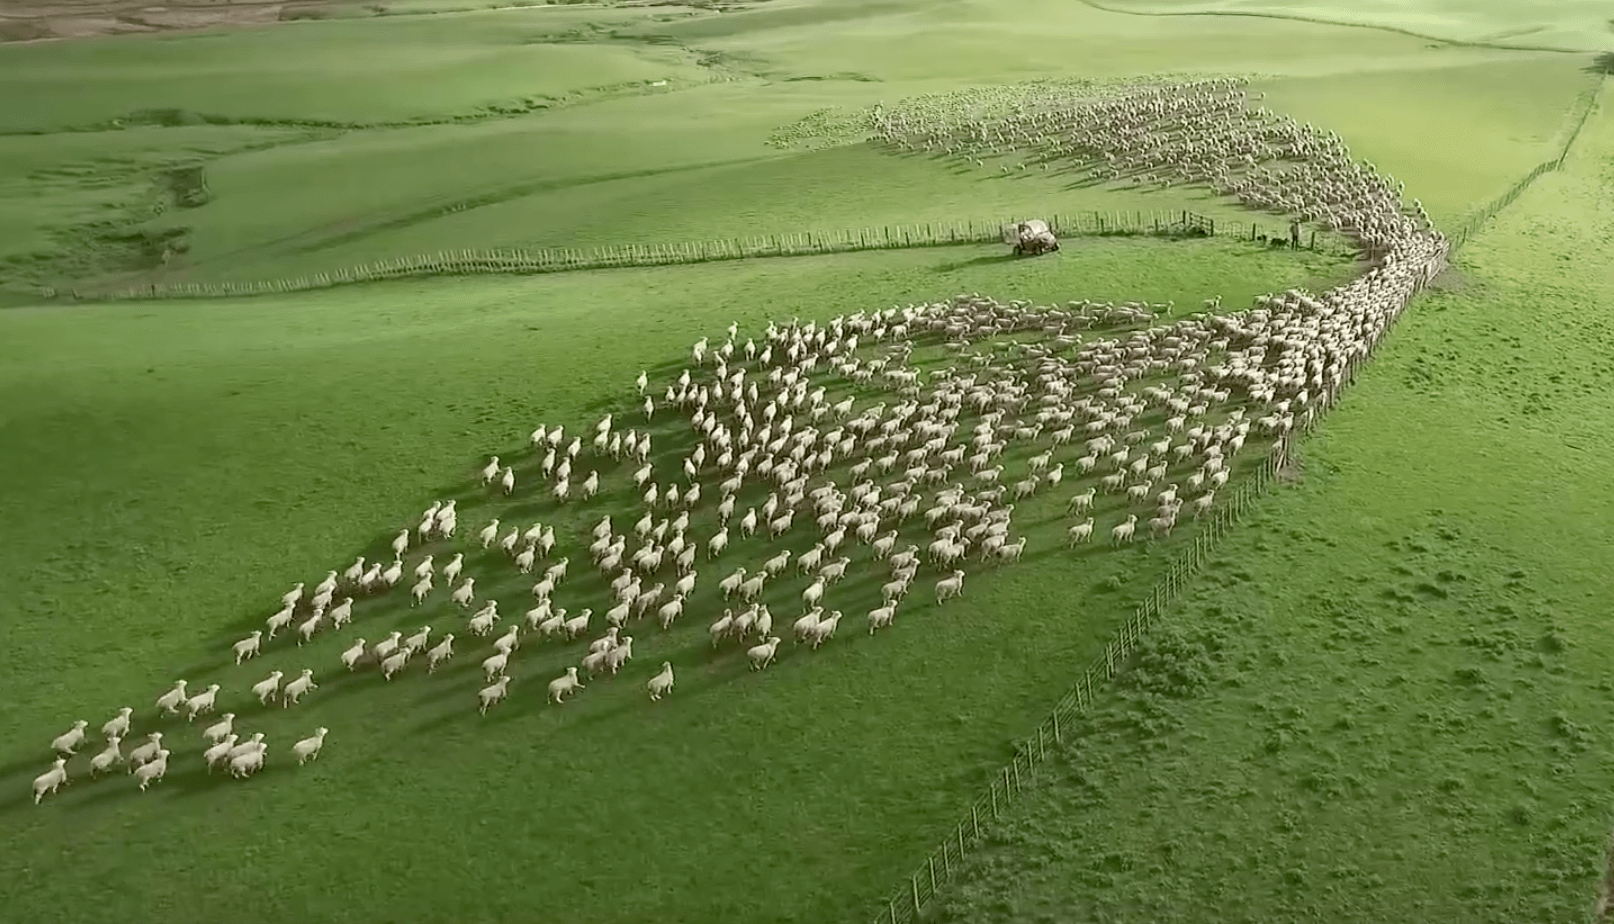sheep: (32, 756, 68, 804), (134, 749, 172, 794), (86, 736, 123, 782), (477, 673, 512, 718), (52, 718, 90, 760), (127, 730, 164, 772), (745, 635, 784, 674), (293, 725, 330, 764), (203, 733, 239, 774), (544, 666, 580, 708), (791, 603, 826, 646), (283, 668, 316, 712), (101, 706, 135, 745), (809, 610, 844, 649), (633, 582, 666, 622), (157, 679, 188, 721), (267, 600, 297, 644), (251, 669, 284, 708), (188, 682, 221, 722), (482, 643, 512, 684), (795, 538, 824, 581), (880, 572, 912, 609), (604, 635, 634, 675), (205, 711, 239, 746), (937, 535, 969, 571), (708, 607, 734, 651), (734, 602, 759, 645), (1068, 514, 1099, 550), (657, 594, 686, 632), (563, 608, 595, 641), (1109, 516, 1141, 550), (233, 630, 264, 665), (381, 646, 412, 680), (231, 735, 266, 764), (934, 569, 964, 605), (648, 661, 674, 702), (523, 596, 551, 634), (994, 536, 1028, 567), (589, 625, 619, 659), (403, 624, 432, 659), (739, 569, 768, 605), (800, 576, 828, 612), (341, 636, 368, 673), (374, 632, 402, 665), (754, 604, 776, 647), (427, 632, 454, 666), (823, 524, 850, 558), (764, 546, 793, 578), (1069, 485, 1096, 519), (605, 596, 631, 632), (868, 598, 896, 630), (616, 576, 643, 609), (769, 507, 797, 538), (889, 545, 920, 573), (852, 516, 880, 547), (470, 606, 497, 638), (330, 595, 356, 628), (983, 503, 1017, 528), (1191, 489, 1215, 523), (890, 559, 920, 587), (1100, 466, 1126, 497), (718, 469, 744, 501), (847, 456, 872, 489), (411, 569, 432, 608), (543, 607, 566, 641), (533, 571, 556, 605), (1010, 474, 1039, 502), (1073, 449, 1100, 479), (280, 582, 306, 613), (673, 569, 698, 600), (819, 557, 850, 583), (871, 530, 897, 561), (721, 568, 743, 604), (972, 465, 1004, 490), (494, 623, 518, 656), (545, 554, 569, 587), (707, 526, 727, 565), (454, 577, 476, 614), (1049, 422, 1076, 450), (1026, 448, 1053, 476), (1014, 422, 1044, 448), (413, 553, 436, 587), (479, 454, 501, 489), (640, 544, 664, 575), (925, 365, 956, 389), (922, 463, 954, 486), (925, 502, 951, 530), (1173, 438, 1198, 466), (885, 346, 913, 371), (668, 527, 688, 564), (346, 554, 367, 588), (381, 558, 403, 591), (315, 568, 340, 596), (897, 494, 922, 522), (874, 449, 901, 474), (858, 485, 882, 514), (938, 443, 967, 468), (962, 501, 991, 525), (1049, 405, 1077, 430), (580, 469, 601, 502), (360, 561, 384, 591), (445, 553, 463, 589), (678, 540, 697, 576), (604, 533, 626, 564), (834, 396, 856, 427), (783, 472, 808, 499), (865, 355, 891, 380), (611, 567, 632, 599), (756, 451, 777, 483), (1127, 479, 1152, 506), (810, 479, 834, 507), (1184, 464, 1207, 493), (717, 494, 736, 530), (760, 492, 779, 527), (500, 524, 520, 557), (480, 517, 500, 551), (592, 514, 612, 547), (634, 510, 654, 543), (670, 506, 689, 540), (551, 474, 571, 507), (940, 339, 971, 360), (591, 531, 610, 565), (740, 507, 759, 542), (1069, 393, 1096, 417), (775, 460, 797, 489), (439, 510, 458, 543), (817, 506, 842, 531), (896, 366, 921, 390), (864, 431, 888, 456), (975, 485, 1007, 505), (980, 438, 1007, 461), (1005, 392, 1032, 415), (980, 405, 1007, 429), (823, 427, 845, 454), (538, 524, 555, 558), (753, 424, 774, 453), (966, 352, 995, 372), (864, 400, 888, 424), (1125, 427, 1150, 451), (1187, 398, 1210, 423), (1128, 453, 1151, 480), (970, 429, 997, 451), (1087, 437, 1114, 459), (436, 499, 457, 526), (1210, 464, 1232, 492), (1001, 380, 1029, 401), (517, 543, 537, 572), (887, 478, 916, 497), (1048, 381, 1076, 401), (635, 433, 652, 468), (651, 516, 668, 548), (1164, 413, 1187, 438), (1122, 397, 1146, 420), (918, 396, 940, 421), (420, 499, 441, 525), (1228, 430, 1248, 458), (990, 339, 1018, 359), (1097, 384, 1125, 404), (684, 482, 702, 513), (392, 528, 411, 557), (716, 445, 735, 474), (1046, 460, 1065, 489), (891, 427, 913, 451), (840, 356, 862, 380), (879, 413, 905, 434), (942, 324, 972, 341), (1071, 315, 1099, 333), (417, 514, 433, 545), (663, 482, 680, 513), (1201, 438, 1223, 461), (877, 450, 898, 474), (1043, 320, 1068, 341), (1160, 482, 1179, 507), (1151, 435, 1171, 461), (937, 403, 962, 423), (501, 465, 515, 500), (763, 399, 780, 427), (941, 419, 963, 441), (897, 400, 917, 424), (813, 401, 831, 427), (1275, 411, 1294, 437), (1110, 309, 1138, 326), (548, 424, 565, 451), (740, 337, 758, 363), (1054, 337, 1081, 355), (890, 320, 910, 343), (607, 431, 622, 463), (1178, 371, 1206, 388), (1257, 386, 1276, 410), (542, 446, 555, 481), (743, 382, 760, 408), (1148, 357, 1174, 374), (527, 521, 542, 550), (691, 442, 705, 473), (787, 336, 801, 367), (944, 388, 966, 409), (530, 423, 546, 450), (1226, 404, 1246, 427), (1152, 386, 1174, 405), (801, 427, 820, 450), (595, 413, 613, 438), (1133, 311, 1157, 329), (1179, 381, 1204, 399), (1024, 311, 1049, 329), (728, 368, 745, 393), (823, 333, 839, 359), (1201, 296, 1226, 312), (915, 312, 936, 332), (1209, 386, 1230, 405), (644, 481, 656, 515), (979, 324, 1001, 342), (1210, 365, 1233, 383), (566, 435, 582, 462), (817, 446, 832, 473), (801, 451, 819, 474), (623, 429, 637, 456), (1294, 387, 1312, 408), (692, 335, 709, 357), (995, 316, 1018, 333), (1068, 299, 1090, 317), (643, 394, 655, 427), (682, 456, 695, 485), (1131, 345, 1157, 359), (954, 292, 979, 308), (852, 318, 872, 337), (793, 377, 810, 398), (882, 305, 900, 326), (1077, 357, 1099, 374), (779, 412, 795, 435), (872, 322, 888, 346), (1152, 301, 1175, 317), (634, 369, 647, 396), (1103, 374, 1127, 389), (810, 386, 827, 407), (1252, 292, 1273, 309), (1097, 337, 1120, 352), (676, 367, 689, 392), (1096, 365, 1124, 377), (1004, 366, 1028, 380), (783, 367, 800, 386), (800, 318, 818, 337), (1130, 358, 1154, 371), (975, 300, 1000, 314), (1248, 345, 1270, 359), (1191, 349, 1210, 365), (760, 345, 772, 372), (844, 333, 858, 355), (974, 312, 995, 327), (1011, 299, 1032, 312), (721, 337, 733, 359)
